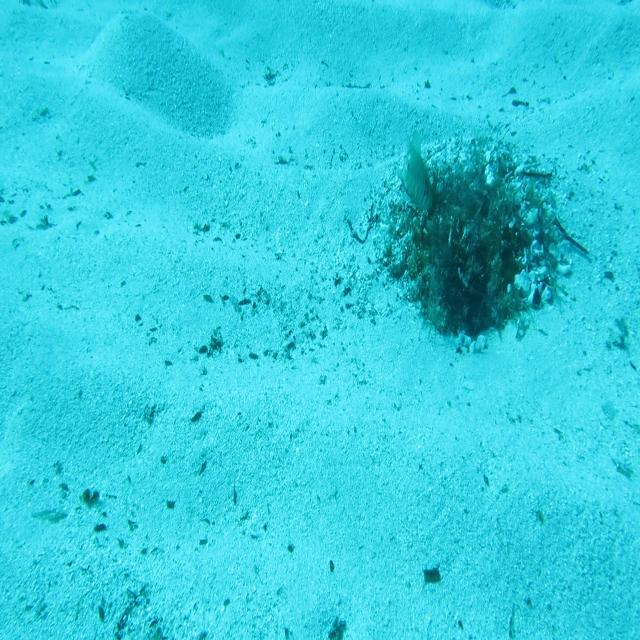NIP_IN: (396, 126, 436, 215)
core_nest: (445, 184, 511, 228)
nest: (368, 123, 583, 365)
